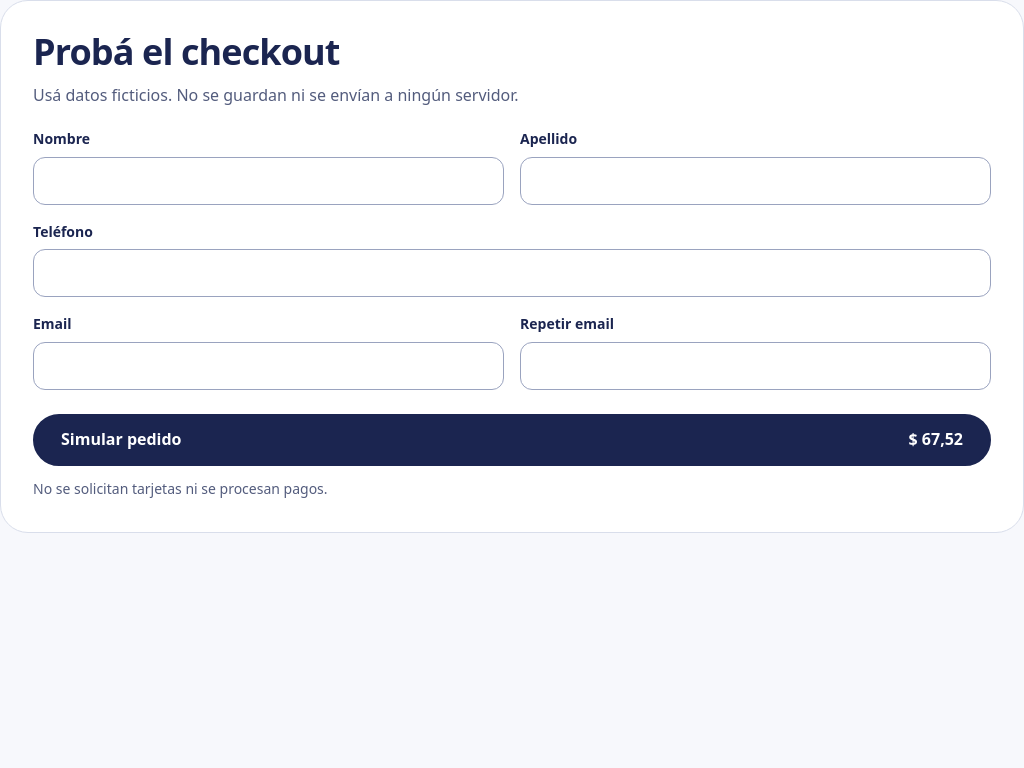
confirma solamente cuando el servidor acepta: false
Step 1. Type "Demo" into the field labelled "Nombre" → point(268, 181), box [33, 157, 504, 205]
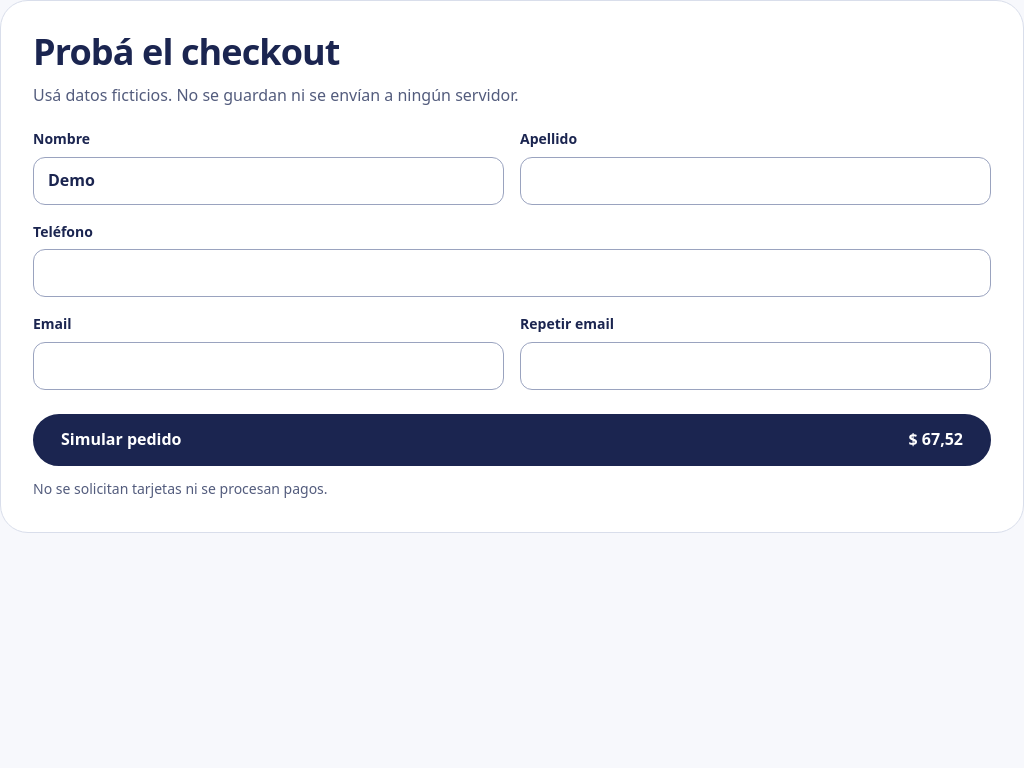
Step 2. Type "Demo" into the field labelled "Apellido" → point(756, 181), box [520, 157, 991, 205]
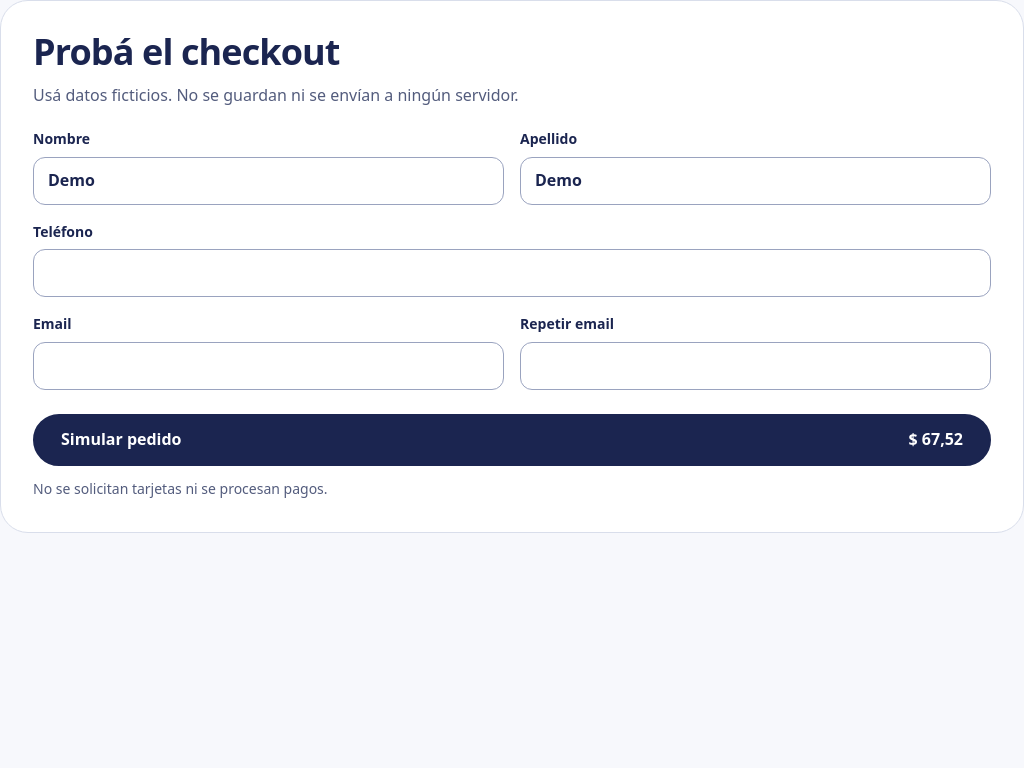
Step 3. Type "Demo" into the field labelled "Teléfono" → point(512, 273), box [33, 249, 991, 297]
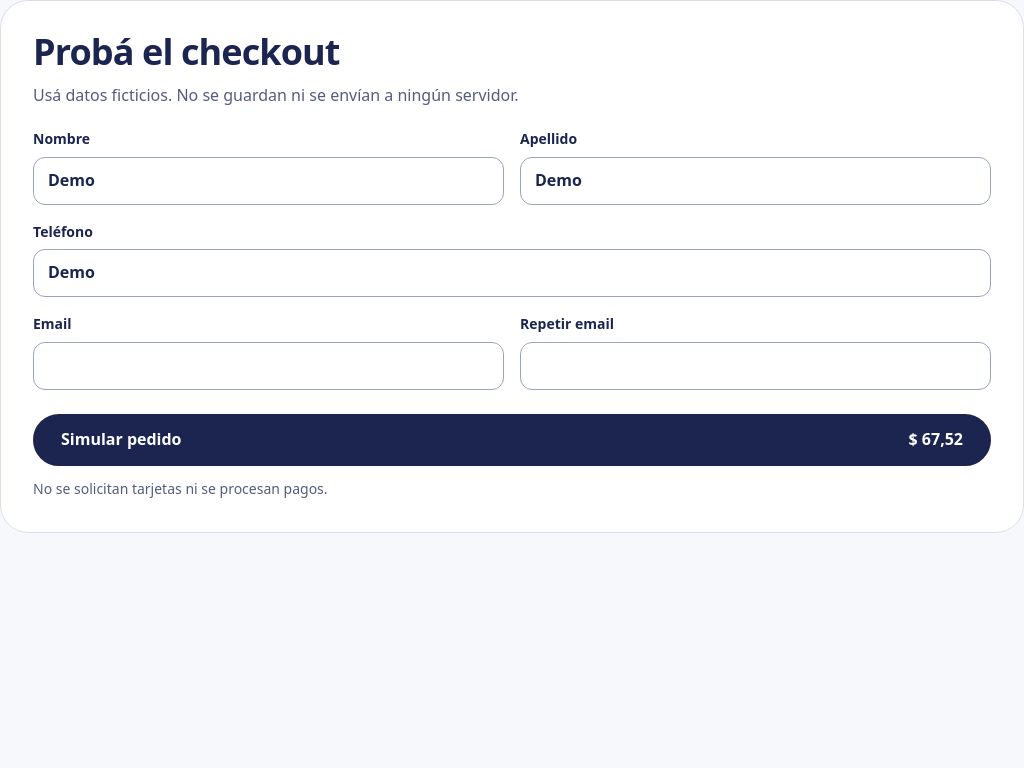
Step 4. Type "demo@example.com" into the field labelled "Email" → point(268, 366), box [33, 342, 504, 390]
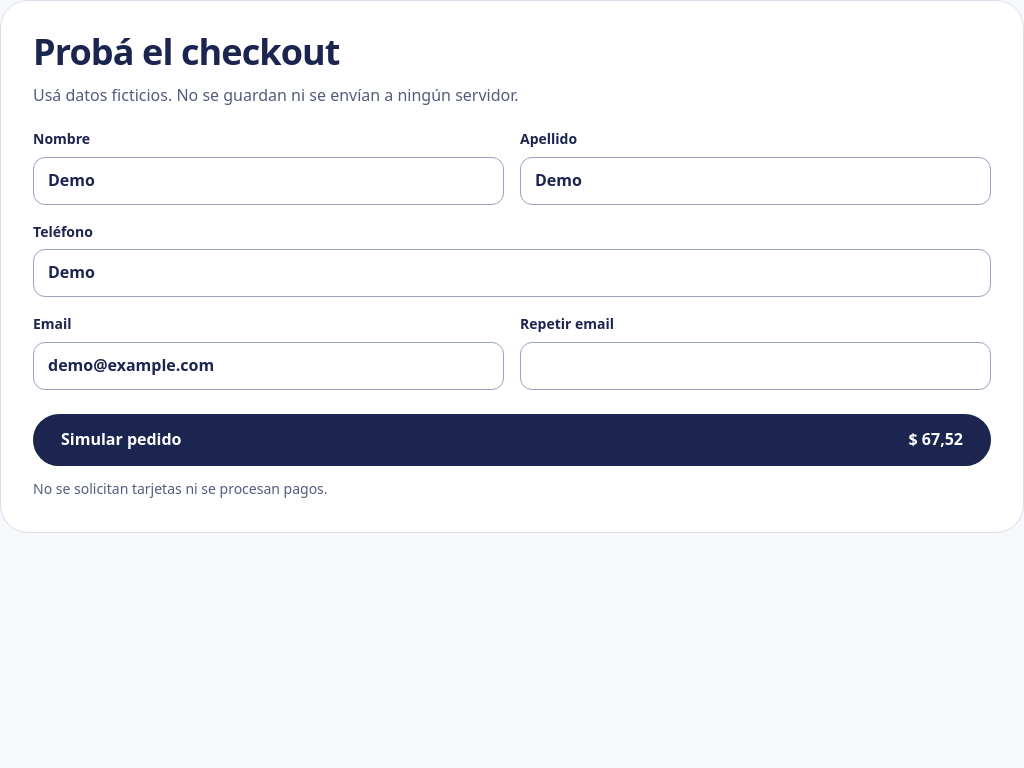
Step 5. Type "demo@example.com" into the field labelled "Repetir email" → point(756, 366), box [520, 342, 991, 390]
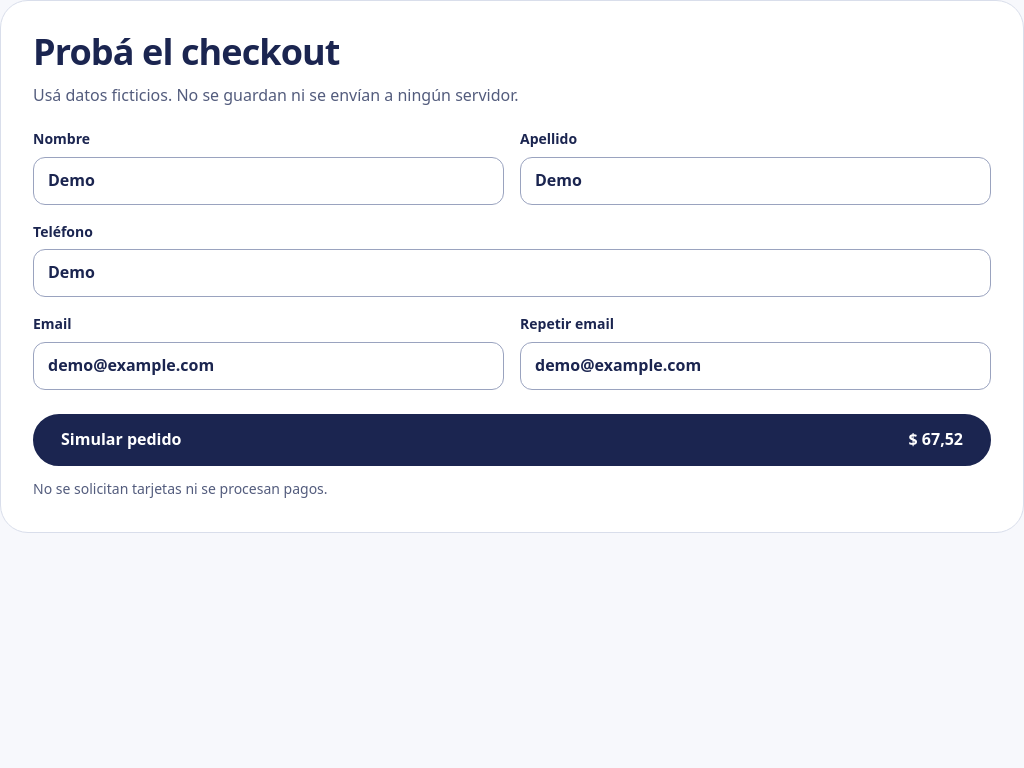
Step 6. Submit the form named "Simular pedido"
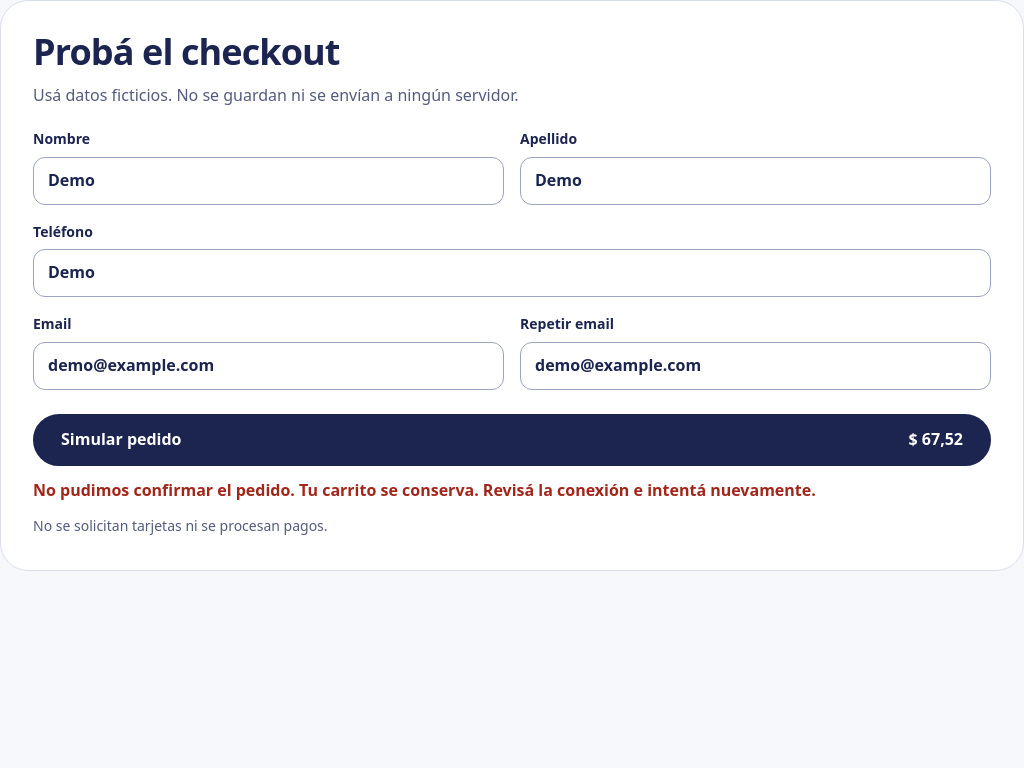
Check: the message shows "Tu carrito se conserva", box [33, 479, 816, 501]
